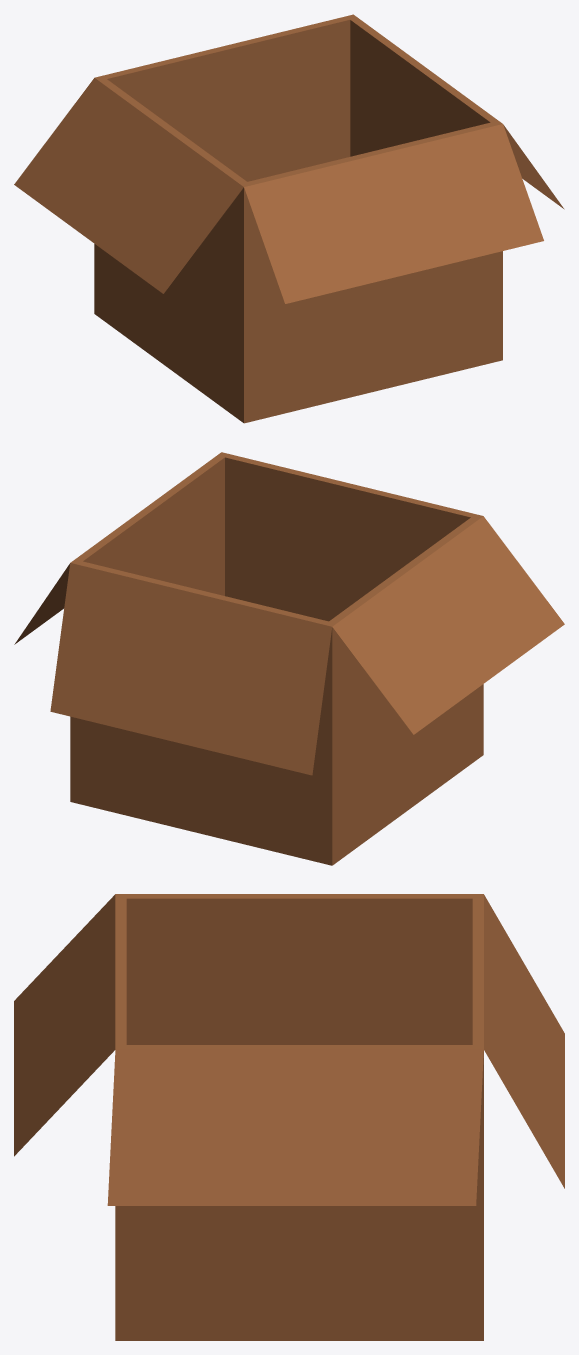
Rendered from CardBoard1.fbx.
3 renders of one model, top to bottom at view 1: azimuth 30°, elevation 25°; view 2: azimuth 150°, elevation 25°; view 3: azimuth 270°, elevation 25°, orthographic. The views are drawn at different scales.
Parts seen in each view (by area): view 1: Cube.004; view 2: Cube.004; view 3: Cube.004.
Part boxes in pixels (left/top/right/bottom): Cube.004: left=14, top=14, right=564, bottom=423; Cube.004: left=14, top=452, right=564, bottom=865; Cube.004: left=14, top=894, right=564, bottom=1340.
Bounding box in the file's own units: 131 × 74.14 × 127.
